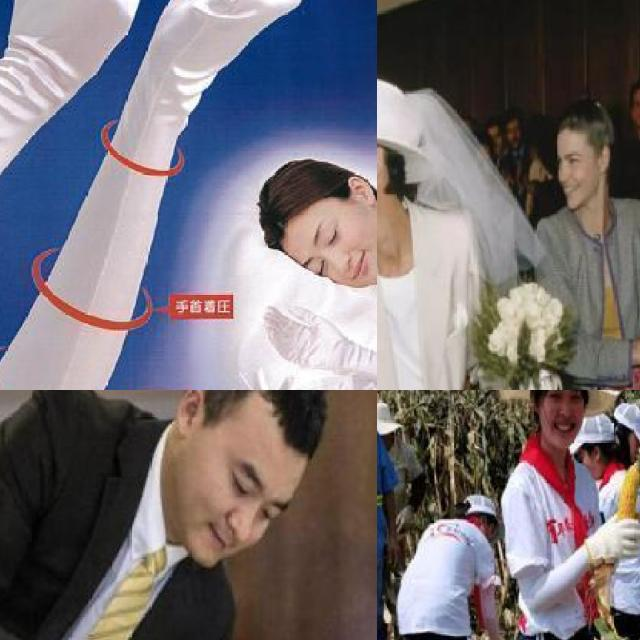No_Ear-Protection: (173, 390, 207, 443), (346, 172, 377, 208)
No_Glasses: (222, 440, 288, 530), (304, 217, 342, 279)
face_nomask: (169, 401, 282, 564), (293, 212, 377, 293), (555, 130, 602, 210), (537, 390, 580, 449)
hand_glove: (168, 0, 356, 66), (13, 0, 144, 78), (266, 306, 350, 372), (593, 511, 640, 565), (219, 368, 308, 390), (293, 372, 377, 390)
hand_noglove: (385, 534, 398, 567)
head_nohelmet: (208, 390, 334, 449), (260, 149, 340, 234), (377, 71, 432, 159), (564, 102, 616, 136)
person: (0, 390, 377, 640), (377, 70, 572, 390), (230, 137, 377, 390), (516, 105, 640, 390), (496, 390, 623, 640), (400, 497, 497, 640)
